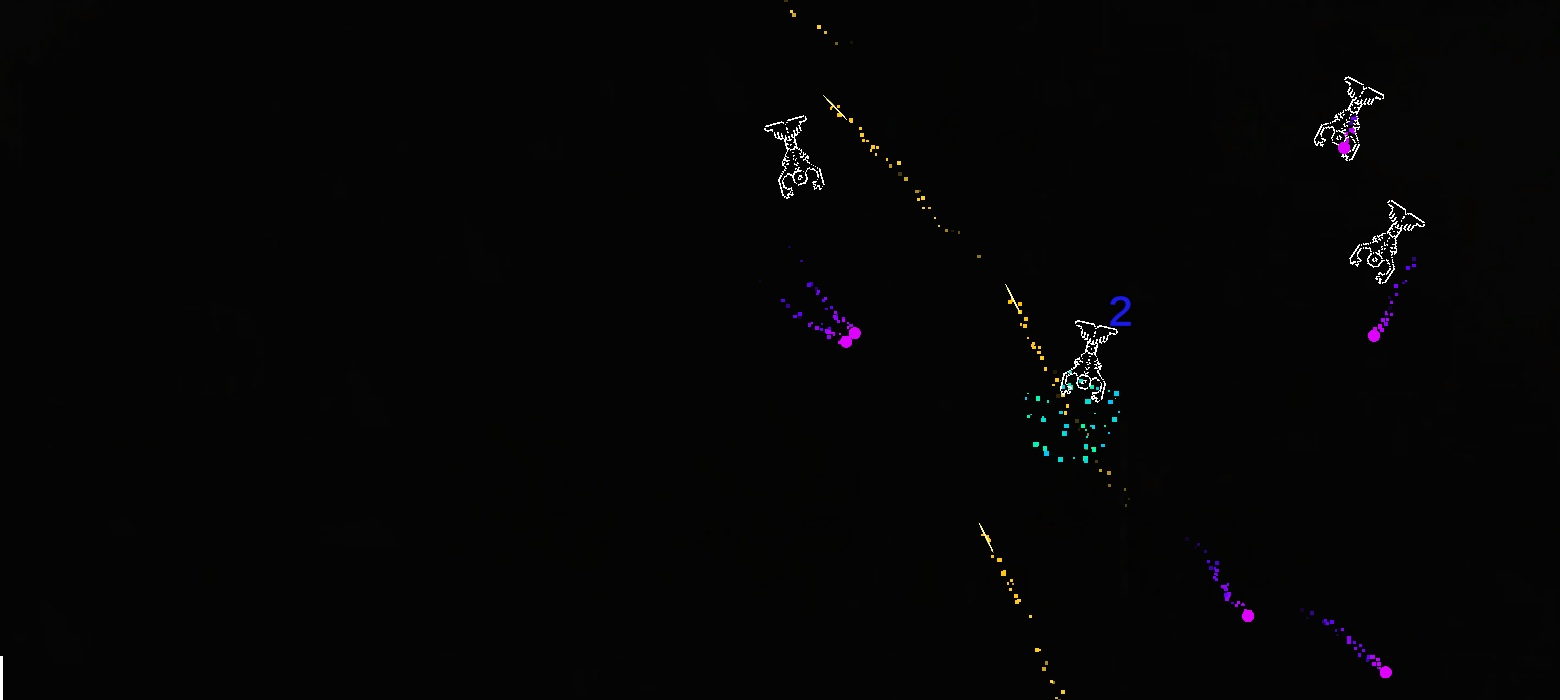enemy: (1349, 199, 1425, 284), (1313, 76, 1385, 162), (764, 115, 825, 199), (1060, 320, 1119, 403)
